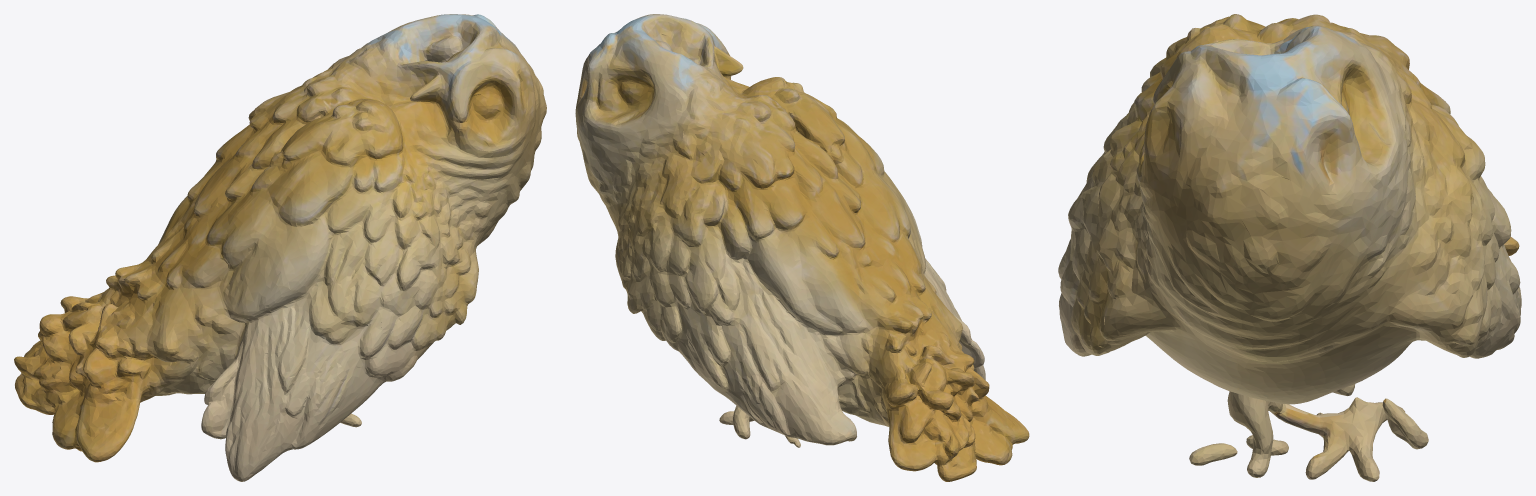
The model's file is owl-golden.glb.
The picture shows the model from 3 angles, left to right: view 1: azimuth 30°, elevation 25°; view 2: azimuth 150°, elevation 25°; view 3: azimuth 270°, elevation 25°; orthographic projection. The views are drawn at different scales.
Visible parts, largest first — view 1: owl golden_textured.obj; view 2: owl golden_textured.obj; view 3: owl golden_textured.obj.
Boxes of the visible parts, box(x1,y1,x2,y2) form: owl golden_textured.obj: box(14, 14, 546, 481); owl golden_textured.obj: box(575, 14, 1029, 481); owl golden_textured.obj: box(1058, 14, 1521, 481).
Bounding box in the file's own units: 1.99 × 1.49 × 1.22.
Materials: 1 (1 with a texture image).
